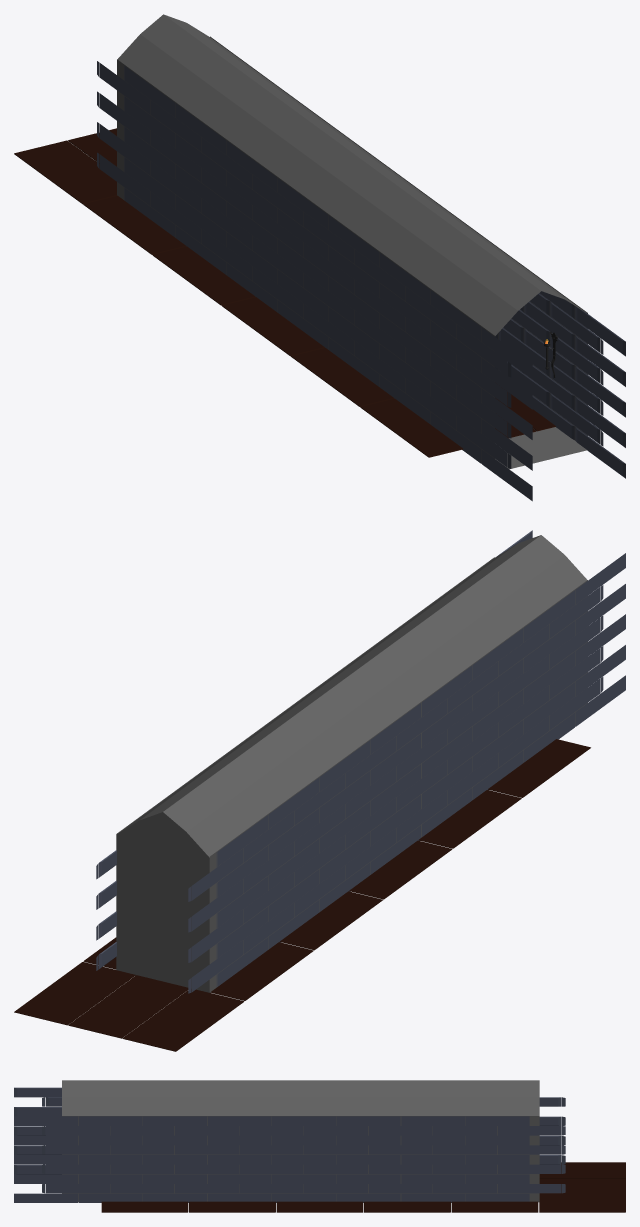
Rendered from hallway5.glb.
The picture shows the model from 3 angles, top to bottom: view 1: azimuth 30°, elevation 25°; view 2: azimuth 150°, elevation 25°; view 3: azimuth 270°, elevation 25°; orthographic projection. The views are drawn at different scales.
Parts seen in each view (by area): view 1: Hallway, Bricks_B, Bricks_A, Flooring; view 2: Hallway, Bricks_B, Bricks_A, Flooring; view 3: Bricks_B, Bricks_A, Hallway, Flooring.
Boxes of the visible parts, x1,y1,x2,y2 form: Hallway: [117, 14, 587, 469]; Bricks_B: [124, 65, 625, 501]; Bricks_A: [97, 61, 603, 468]; Flooring: [14, 128, 555, 457]; Hallway: [116, 535, 587, 992]; Bricks_B: [216, 530, 625, 987]; Bricks_A: [96, 585, 603, 993]; Flooring: [14, 739, 590, 1051]; Bricks_B: [14, 1087, 529, 1202]; Bricks_A: [42, 1097, 565, 1193]; Hallway: [62, 1080, 539, 1202]; Flooring: [101, 1162, 625, 1212].
Bounding box in the file's own units: 7.4 × 7.5 × 38.43.
